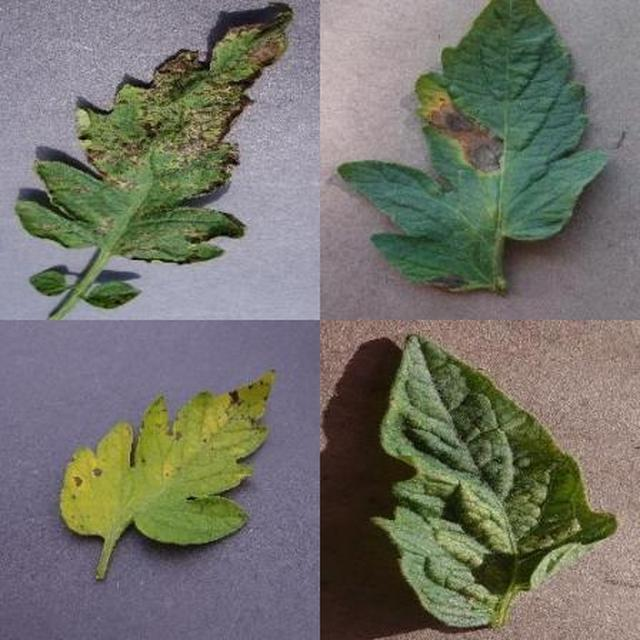Septoria Leaf: (226, 197, 640, 640)
